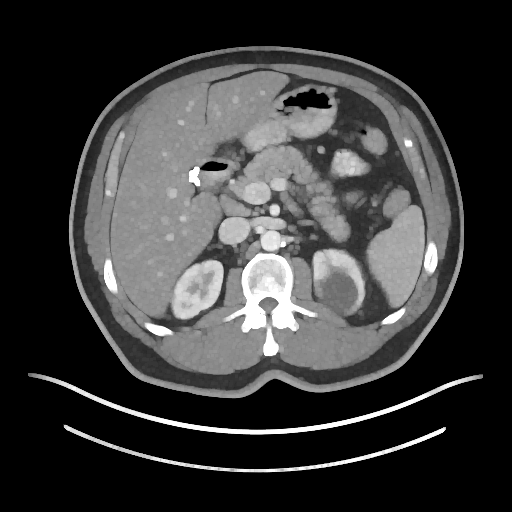Lesion: (308, 260, 367, 322)
